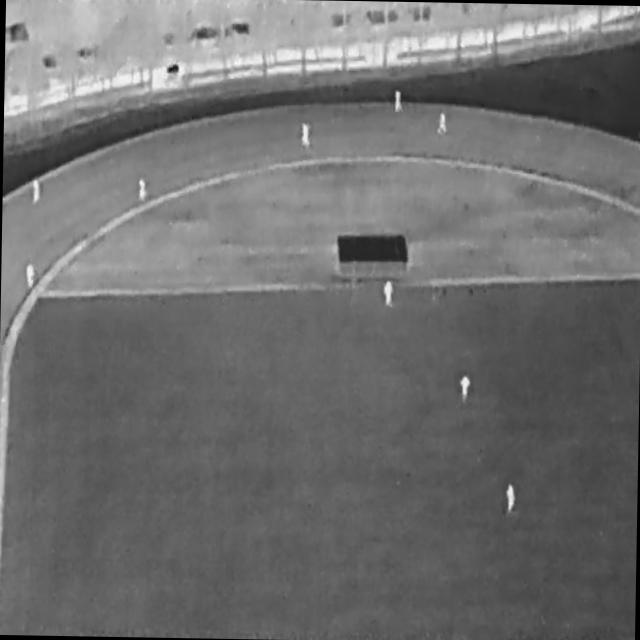person: (507, 484, 517, 515), (460, 375, 471, 403), (384, 279, 395, 307), (301, 122, 312, 148), (437, 112, 448, 135), (26, 264, 36, 288), (32, 179, 41, 205), (140, 178, 149, 202), (395, 89, 404, 113)
